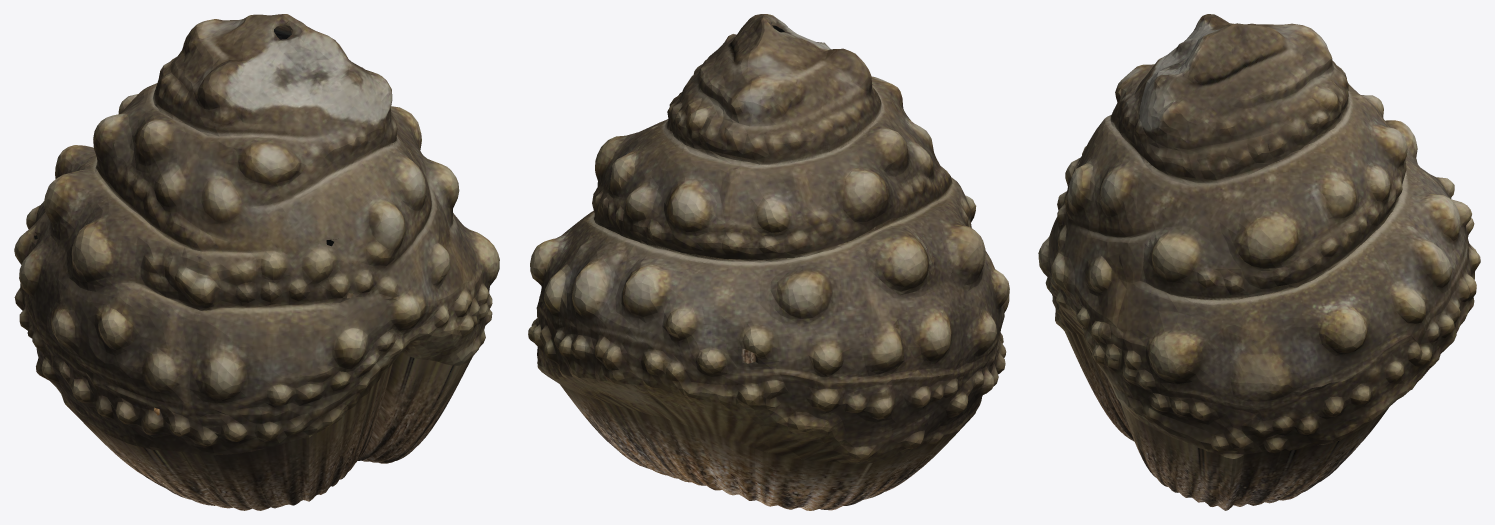
3 views of the same model, side by side, from view 1: azimuth 30°, elevation 25°; view 2: azimuth 150°, elevation 25°; view 3: azimuth 270°, elevation 25° (orthographic). The views are drawn at different scales.
Parts seen in each view (by area): view 1: world; view 2: world; view 3: world.
Boxes of the visible parts, <box> form: world: <box>14,14,499,510</box>; world: <box>528,14,1009,510</box>; world: <box>1038,14,1480,510</box>.
Size of the model in its own units: 0.1749 by 0.18 by 0.1651.
Materials: 2 (2 with a texture image).
